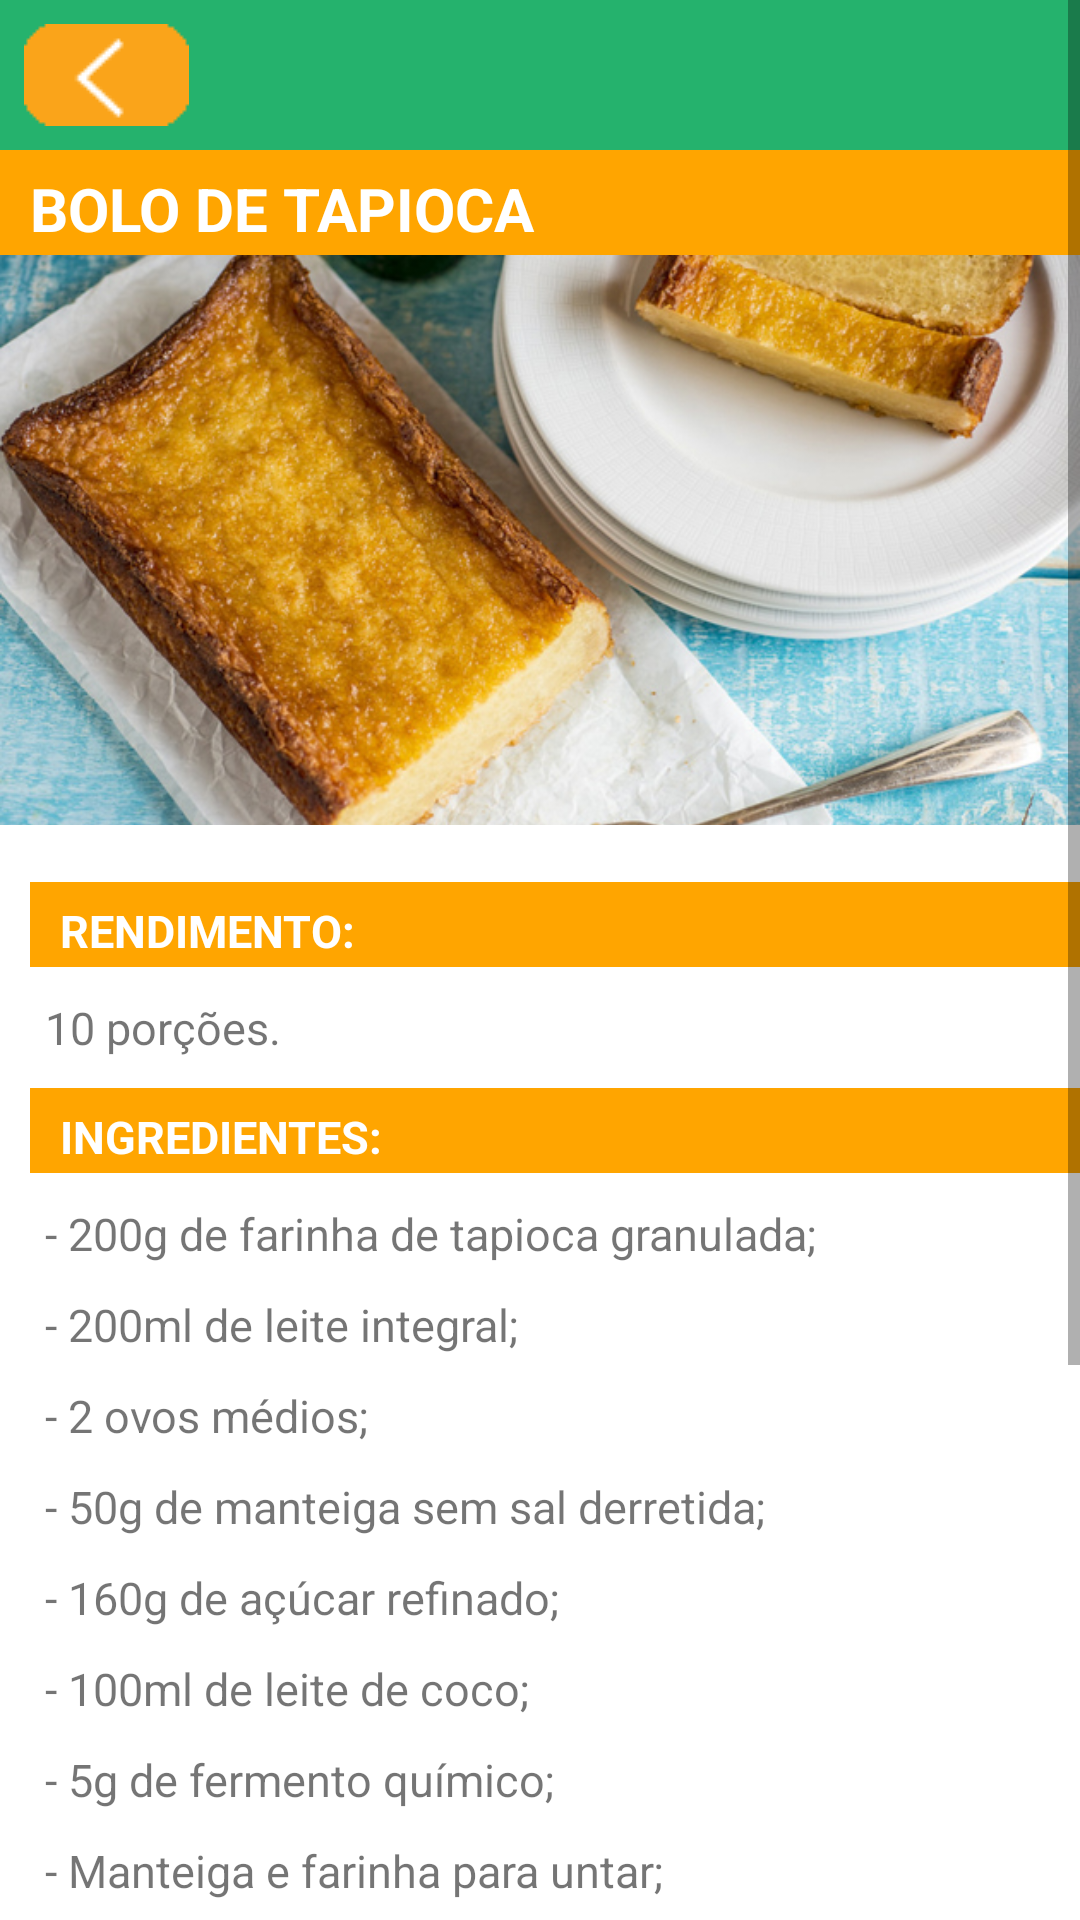

Locate icon controls on the screen. Image size 1080*1920, boxes as bbox(x1, y1, x2, y2).
return: bbox(24, 24, 189, 126)
